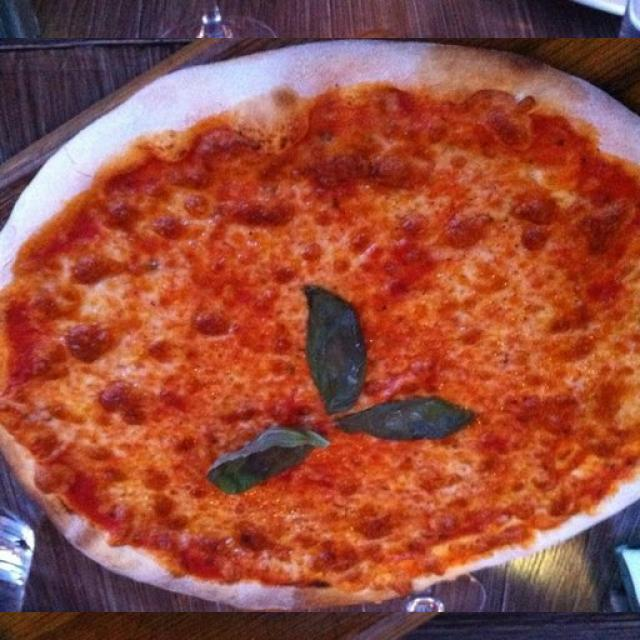basil: (309, 153, 435, 227), (272, 236, 338, 366), (163, 210, 307, 254)
pizza: (0, 38, 640, 612)
